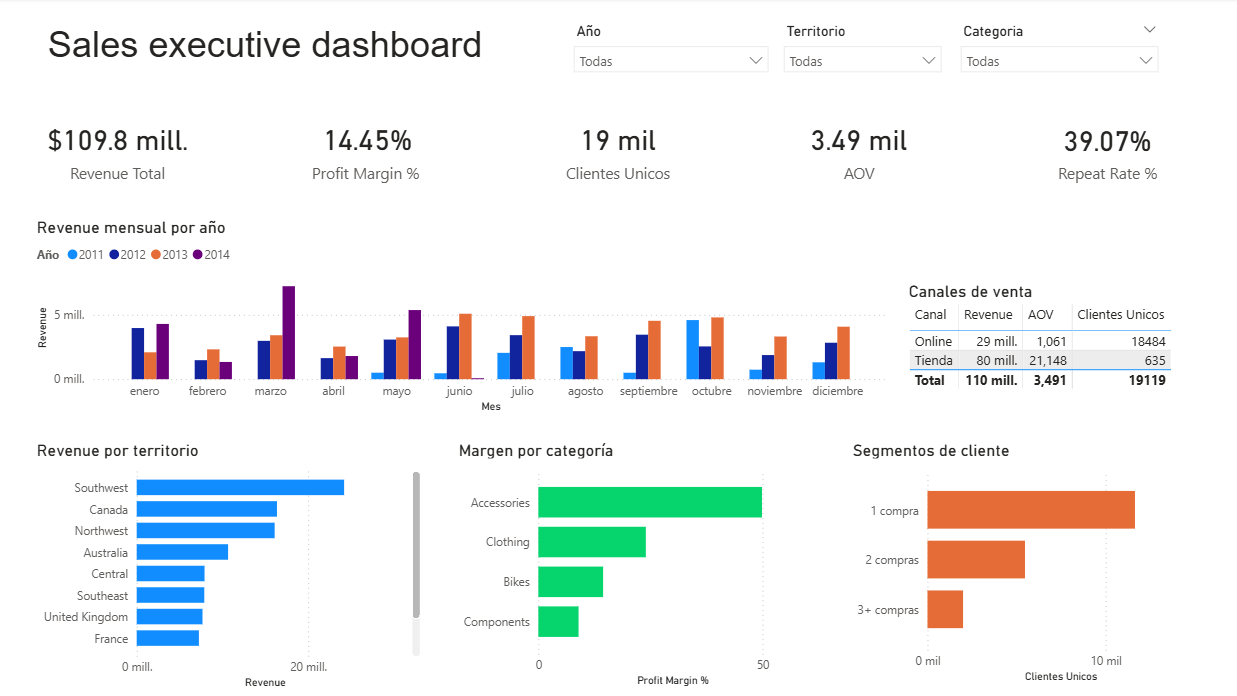

This screenshot's page, from the dashboard's own definition file:
{"tool":"powerbi","page":{"name":"Página 1","canvas":[1280,720],"ordinal":0},"visuals":[{"type":"card","fields":{"Values":["_Medidas.Revenue"]},"box":[32,107.8,180.5,97],"z":0},{"type":"card","fields":{"Values":["_Medidas.Profit Margin %2"]},"box":[286,107.8,188.8,97],"z":1000},{"type":"card","fields":{"Values":["_Medidas.Clientes Unicos"]},"box":[548.2,107.8,181.5,97],"z":2000},{"type":"card","fields":{"Values":["_Medidas.AOV"]},"box":[803.2,107.8,167.1,97],"z":3000},{"type":"card","fields":{"Values":["_Medidas.Repeat Rate %"]},"box":[1043.8,108.3,199.1,95.9],"z":4000},{"type":"clusteredColumnChart","title":"Revenue mensual por año","fields":{"Y":["_Medidas.Revenue"],"Category":["vw_fact_ventas.OrderDate.Variación.Jerarquía de fechas.Mes"],"Series":["vw_fact_ventas.OrderDate.Variación.Jerarquía de fechas.Año"]},"box":[34,225.9,888.1,206.3],"z":5000},{"type":"barChart","title":"Revenue por territorio","fields":{"Category":["vw_dim_territorio.Name"],"Y":["_Medidas.Revenue"]},"box":[34,455.9,405.4,261],"z":6000},{"type":"barChart","title":"Margen por categoría","fields":{"Category":["vw_dim_producto.Category"],"Y":["_Medidas.Profit Margin %"]},"box":[469.3,455.9,376.5,258.9],"z":7000},{"type":"barChart","title":"Segmentos de cliente","fields":{"Category":["vw_dim_cliente.Segmento"],"Y":["_Medidas.Clientes Unicos"]},"box":[875.7,456.1,379.6,254.8],"z":8000},{"type":"tableEx","title":"Canales de venta","fields":{"Values":["vw_fact_ventas.Canal","_Medidas.Revenue","_Medidas.AOV","_Medidas.Clientes Unicos"]},"box":[933.4,291.9,321.8,131],"z":9000},{"type":"slicer","fields":{"Values":["vw_dim_territorio.Name"]},"box":[799.4,21.7,182.6,72.2],"z":11001},{"type":"slicer","fields":{"Values":["vw_dim_producto.Category"]},"box":[981.9,21.7,223.8,72.2],"z":11002},{"type":"slicer","fields":{"Values":["vw_fact_ventas.OrderDate.Variación.Jerarquía de fechas.Año"]},"box":[582.8,21.7,220.7,72.2],"z":11003},{"type":"textbox","box":[45.4,21.7,483.7,72.2],"z":11004}]}

Visuals, with their boxes in screenshot pixels (x1, y1, x2, y2), scaled from the page's 1280x720 canvas onto the 1237x696 screenshot:
card - _Medidas.Revenue: {"left": 31, "top": 104, "right": 205, "bottom": 198}
card - _Medidas.Profit Margin %2: {"left": 276, "top": 104, "right": 459, "bottom": 198}
card - _Medidas.Clientes Unicos: {"left": 530, "top": 104, "right": 705, "bottom": 198}
card - _Medidas.AOV: {"left": 776, "top": 104, "right": 938, "bottom": 198}
card - _Medidas.Repeat Rate %: {"left": 1009, "top": 105, "right": 1201, "bottom": 197}
"Revenue mensual por año" clusteredColumnChart: {"left": 33, "top": 218, "right": 891, "bottom": 418}
"Revenue por territorio" barChart: {"left": 33, "top": 441, "right": 425, "bottom": 693}
"Margen por categoría" barChart: {"left": 454, "top": 441, "right": 817, "bottom": 691}
"Segmentos de cliente" barChart: {"left": 846, "top": 441, "right": 1213, "bottom": 687}
"Canales de venta" tableEx: {"left": 902, "top": 282, "right": 1213, "bottom": 409}
slicer - vw_dim_territorio.Name: {"left": 773, "top": 21, "right": 949, "bottom": 91}
slicer - vw_dim_producto.Category: {"left": 949, "top": 21, "right": 1165, "bottom": 91}
slicer - vw_fact_ventas.OrderDate.Variación.Jerarquía de fechas.Año: {"left": 563, "top": 21, "right": 777, "bottom": 91}
textbox: {"left": 44, "top": 21, "right": 511, "bottom": 91}
